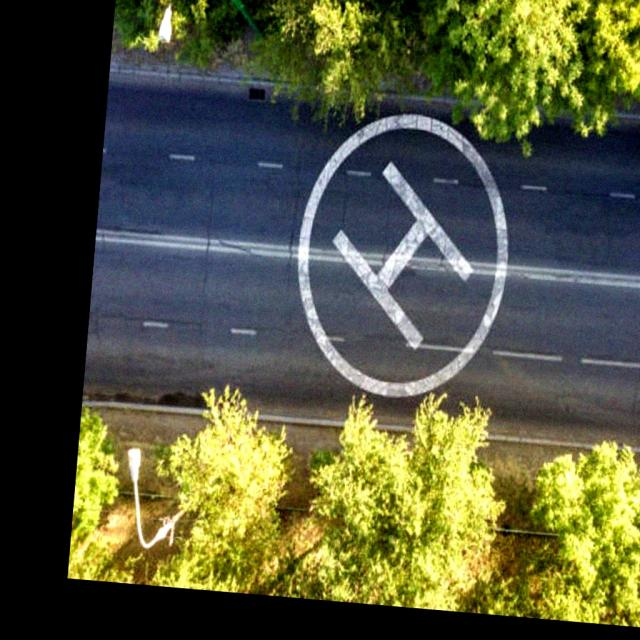helipad: (288, 107, 518, 400)
